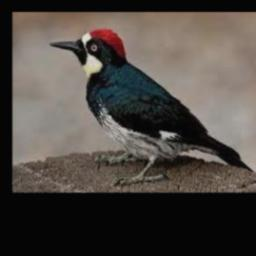Woodpecker: (49, 28, 253, 183)
